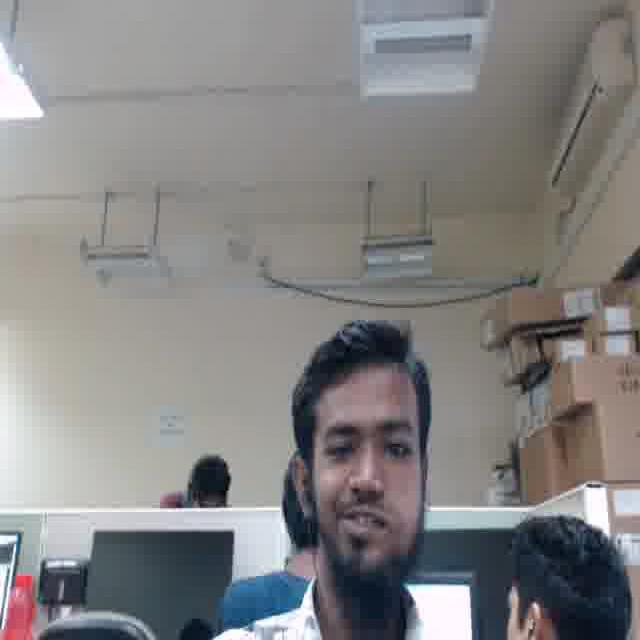Engaged: (310, 376, 423, 573)
